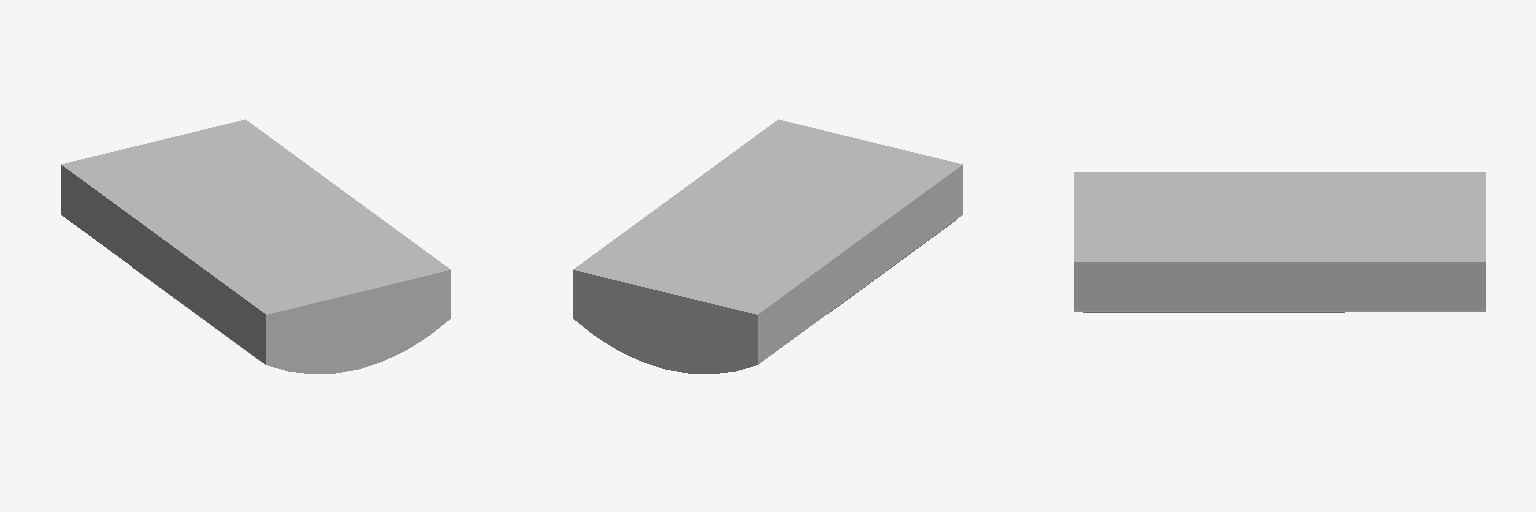
Rendered from RoadLight14.obj.
The picture shows the model from 3 angles: view 1: azimuth 30°, elevation 25°; view 2: azimuth 150°, elevation 25°; view 3: azimuth 270°, elevation 25°; orthographic projection.
Size of the model in its own units: 0.9406 by 0.378 by 1.81.